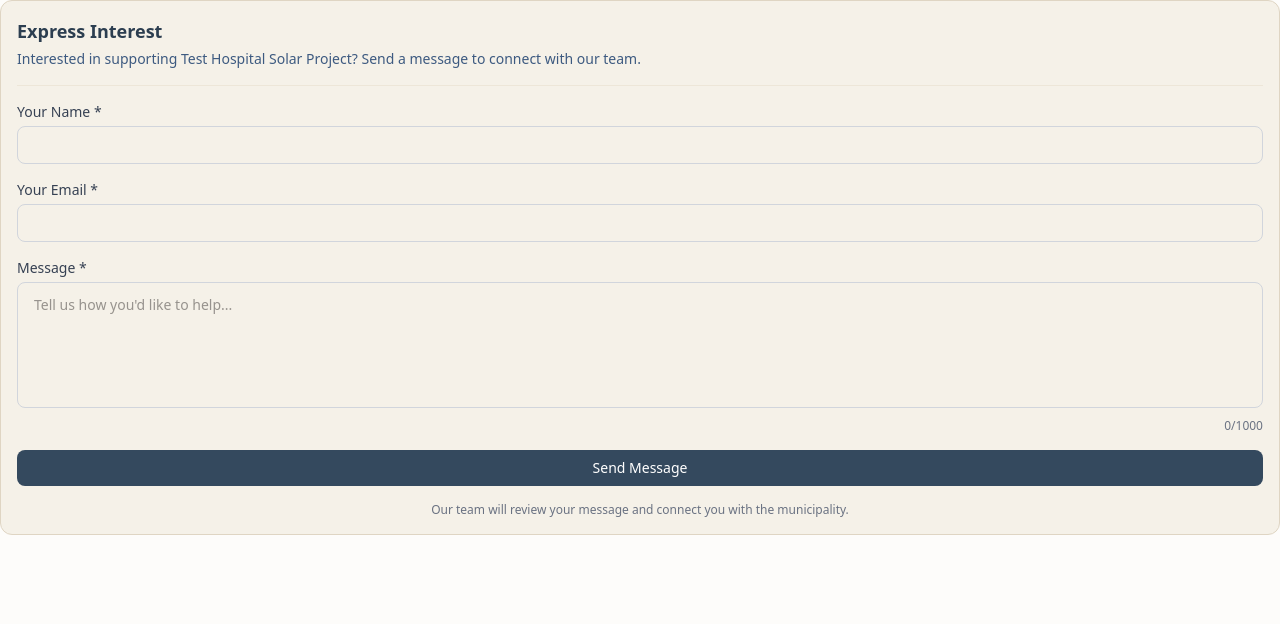
Test: ContactForm › Validation › shows validation errors for empty required fields
Click the button "Send Message" at (640,468), box [17,450,1263,486]
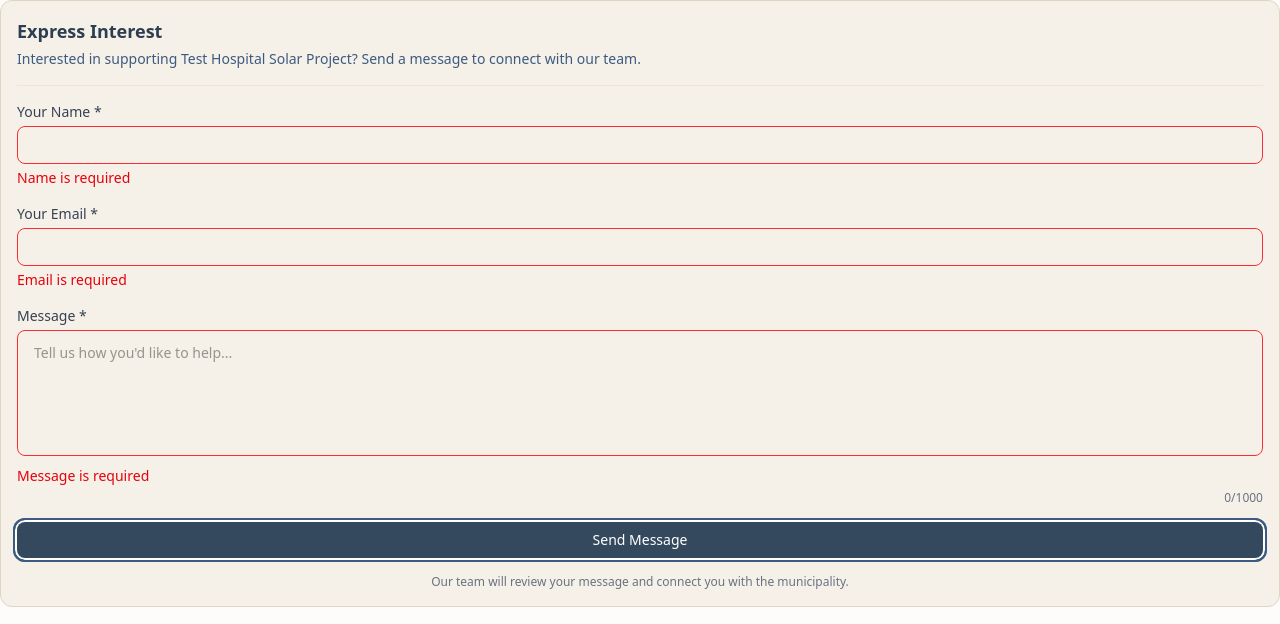
Now the text "Name is required" is shown, box [17,168,130,187]
Now the text "Email is required" is shown, box [17,270,127,289]
Now the text "Message is required" is shown, box [17,466,149,485]
